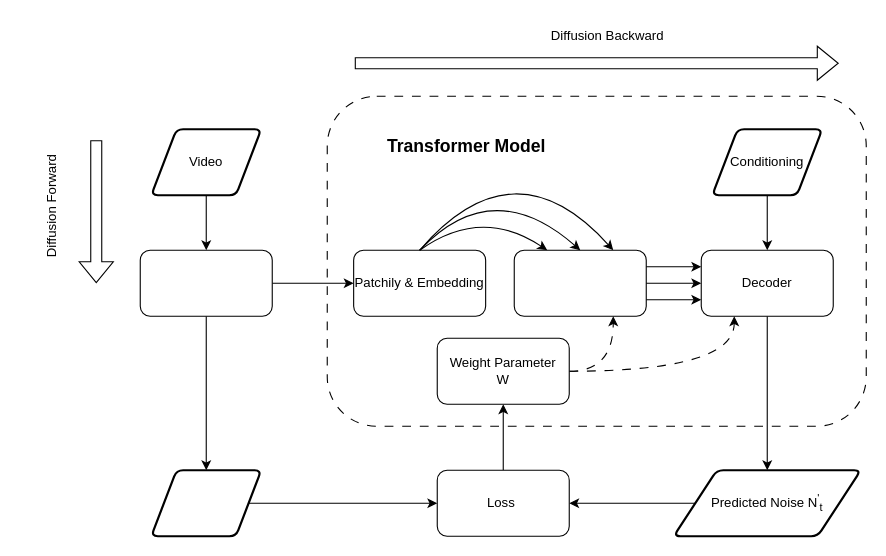
Image size: 886x556. Some labels were removed from this diagram. The box of each missing label's shape, as (x1, y1, x2, y2) in pixels:
Encoder: (513, 249, 646, 316)
Noise Adder: (139, 249, 272, 316)
Noise N t: (150, 469, 262, 537)
